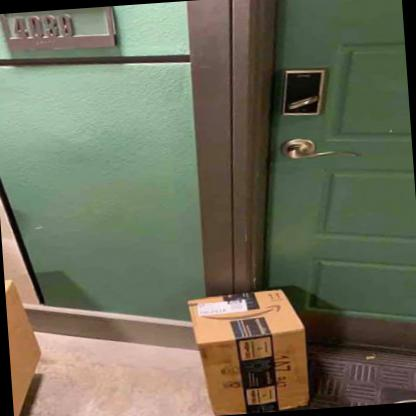box: (182, 288, 311, 416)
